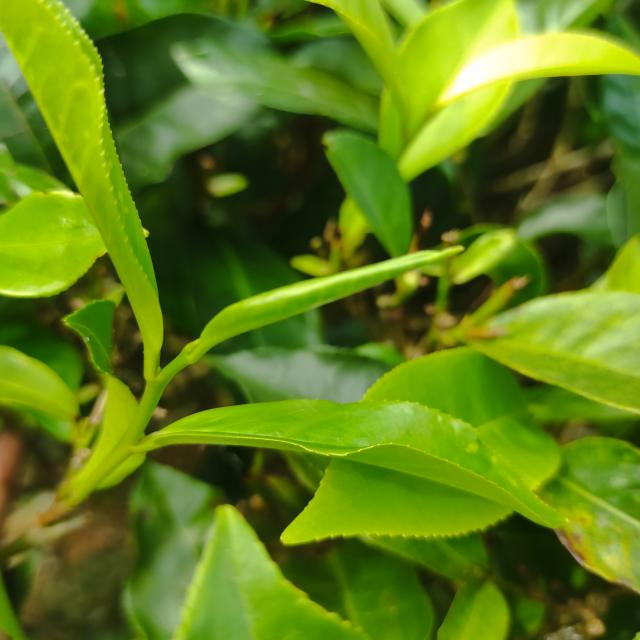unopened_leaf: (167, 237, 475, 371)
